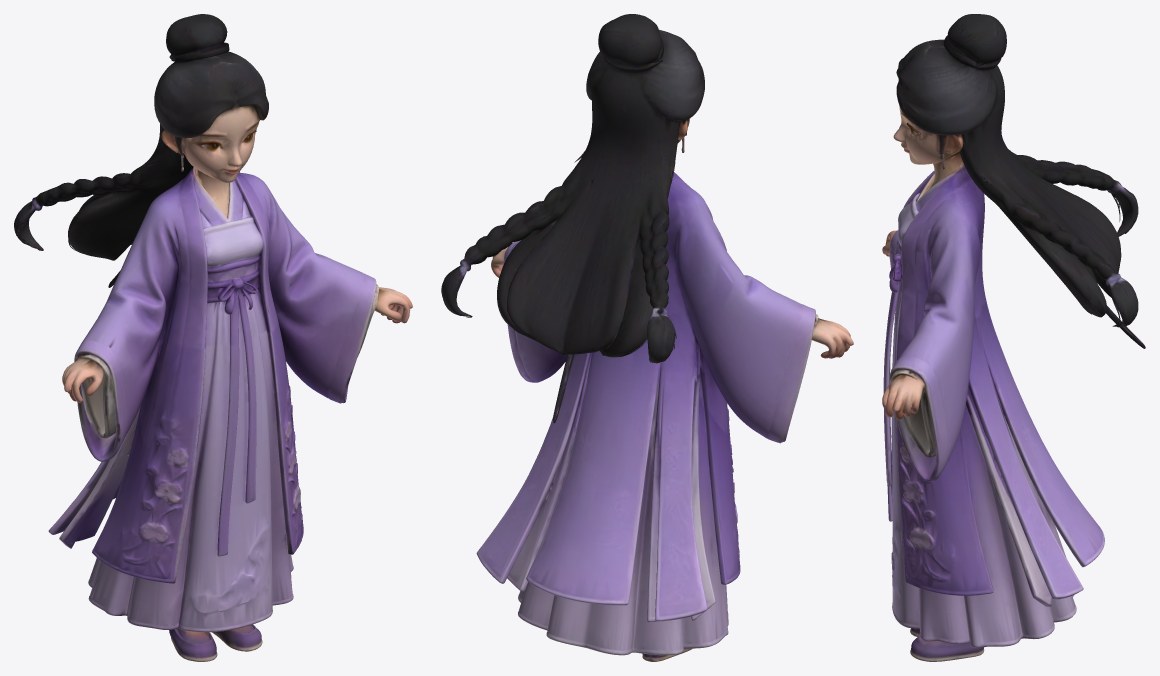
The model's file is heichi_purple.glb.
3 renders of one model, left to right at view 1: azimuth 30°, elevation 25°; view 2: azimuth 150°, elevation 25°; view 3: azimuth 270°, elevation 25°, orthographic. The views are drawn at different scales.
Visible parts, largest first — view 1: node_0; view 2: node_0; view 3: node_0.
Boxes of the visible parts, x1,y1,x2,y2 form: node_0: (14, 14, 412, 661); node_0: (441, 14, 853, 661); node_0: (882, 14, 1145, 661).
Bounding box in the file's own units: 0.6795 × 1.15 × 0.4389.
Materials: 1 (1 with a texture image).
